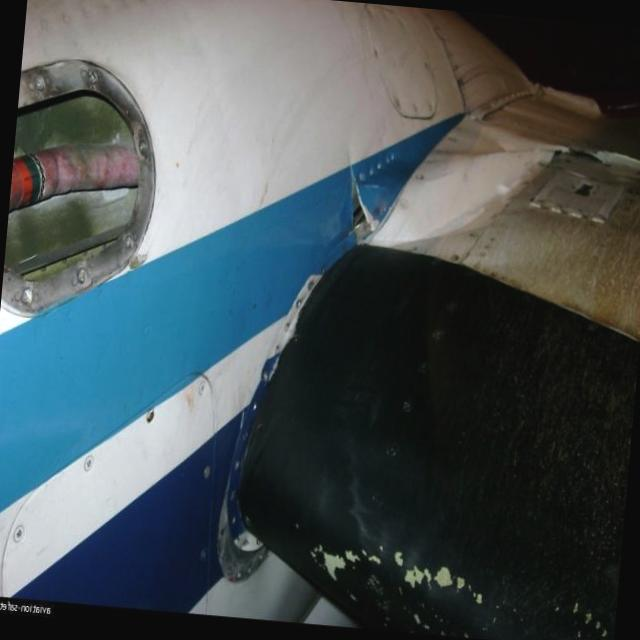crack: (340, 177, 386, 238)
